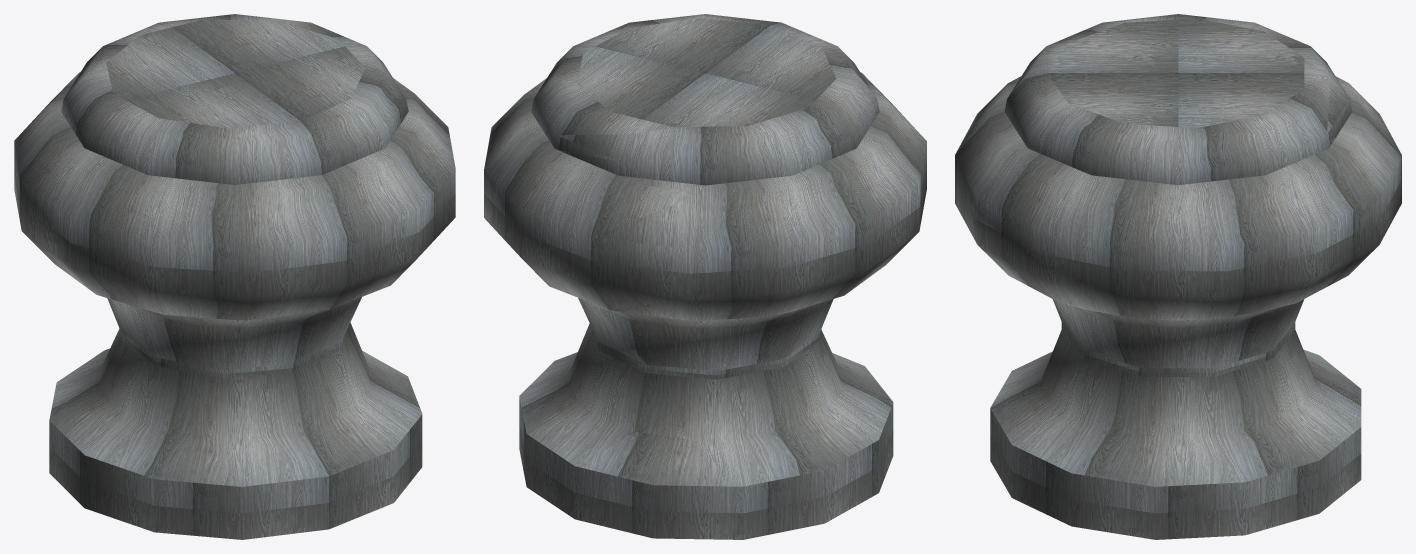
The picture shows the model from 3 angles, left to right: view 1: azimuth 30°, elevation 25°; view 2: azimuth 150°, elevation 25°; view 3: azimuth 270°, elevation 25°; orthographic projection.
Parts seen in each view (by area): view 1: testObject; view 2: testObject; view 3: testObject.
Boxes of the visible parts, x1=… form: testObject: x1=14, y1=14, x2=455, y2=539; testObject: x1=484, y1=14, x2=926, y2=539; testObject: x1=955, y1=14, x2=1401, y2=539.
Size of the model in its own units: 0.5255 by 0.5161 by 0.5391.
Materials: 1 (1 with a texture image).
